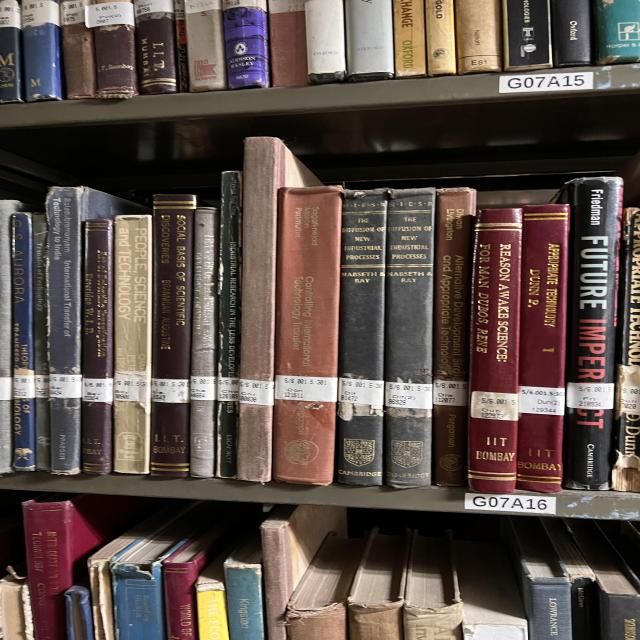Book: (47, 186, 150, 474), (237, 136, 322, 482), (273, 186, 342, 485), (558, 178, 622, 490), (22, 494, 153, 640), (468, 209, 522, 492), (517, 204, 570, 492), (385, 188, 435, 489), (337, 189, 387, 485), (150, 195, 197, 478), (433, 188, 477, 486), (87, 505, 180, 640), (260, 505, 347, 640), (113, 215, 152, 474), (163, 515, 238, 640), (565, 519, 640, 640), (505, 518, 572, 640), (612, 208, 640, 492), (82, 219, 113, 474), (217, 171, 242, 479), (0, 200, 28, 474), (190, 208, 218, 478), (347, 529, 410, 640), (542, 519, 598, 640), (403, 530, 463, 640), (12, 212, 35, 471), (85, 0, 138, 99), (32, 212, 50, 470), (223, 535, 265, 640), (133, 0, 178, 95), (222, 0, 270, 89), (112, 561, 165, 640), (22, 0, 63, 101), (345, 0, 395, 82), (185, 0, 227, 92), (60, 0, 97, 99), (503, 0, 553, 71), (305, 0, 347, 84), (455, 0, 502, 74), (268, 0, 308, 86), (593, 0, 640, 65), (552, 0, 592, 68), (393, 0, 427, 78), (425, 0, 457, 76), (287, 602, 347, 640), (0, 575, 27, 640), (65, 585, 95, 640), (197, 590, 228, 640), (463, 624, 527, 640)
Label: (275, 375, 338, 402), (470, 391, 518, 421), (518, 386, 565, 416), (385, 381, 433, 409), (567, 382, 615, 409), (338, 378, 383, 406), (113, 371, 150, 402), (238, 379, 275, 406), (152, 379, 190, 404), (433, 380, 468, 406), (50, 374, 82, 399), (82, 378, 113, 402), (190, 376, 217, 400), (620, 385, 640, 414), (13, 375, 35, 399), (217, 378, 238, 401), (35, 375, 50, 398), (0, 376, 13, 401)
